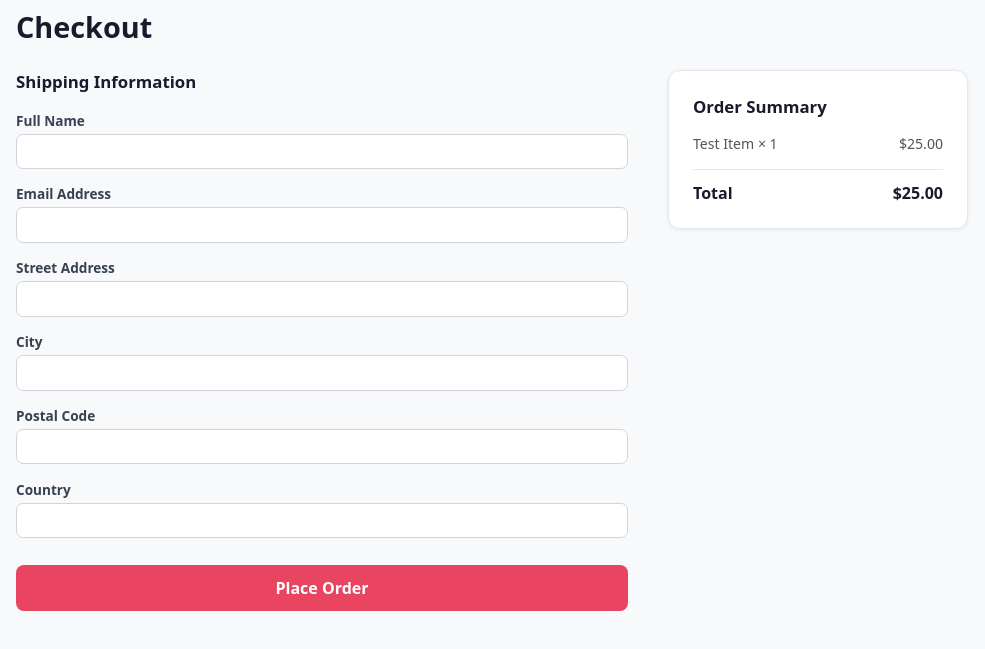
Test case: Checkout › shows postal code format validation error
Step 1. Type "Jane Doe" into the field with id "fullName" → (322, 151), box [16,134,628,169]
Step 2. Type "jane@example.com" into the field labelled "Email Address" → (322, 225), box [16,207,628,243]
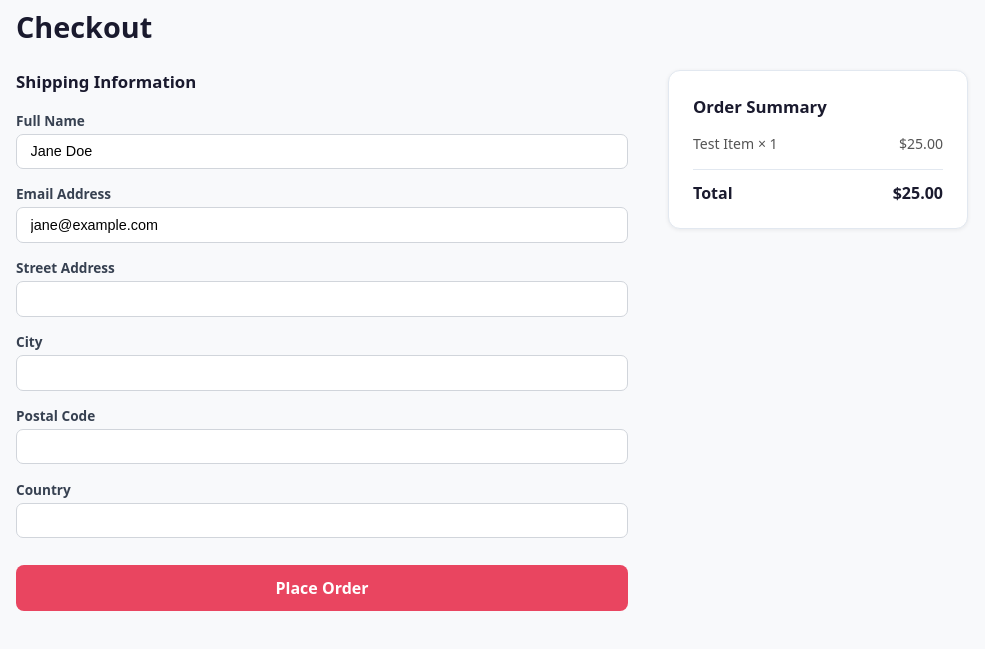
Step 3. Type "123 Main St" into the field labelled "Street Address" → (322, 299), box [16,281,628,317]
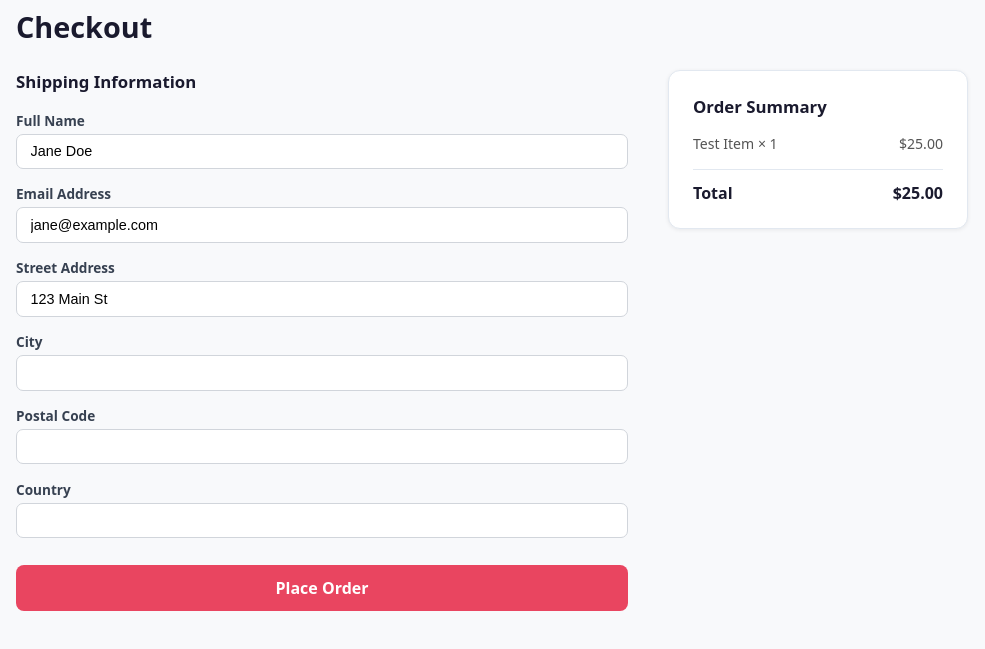
Step 4. Type "Springfield" into the field labelled "City" → (322, 373), box [16,355,628,390]
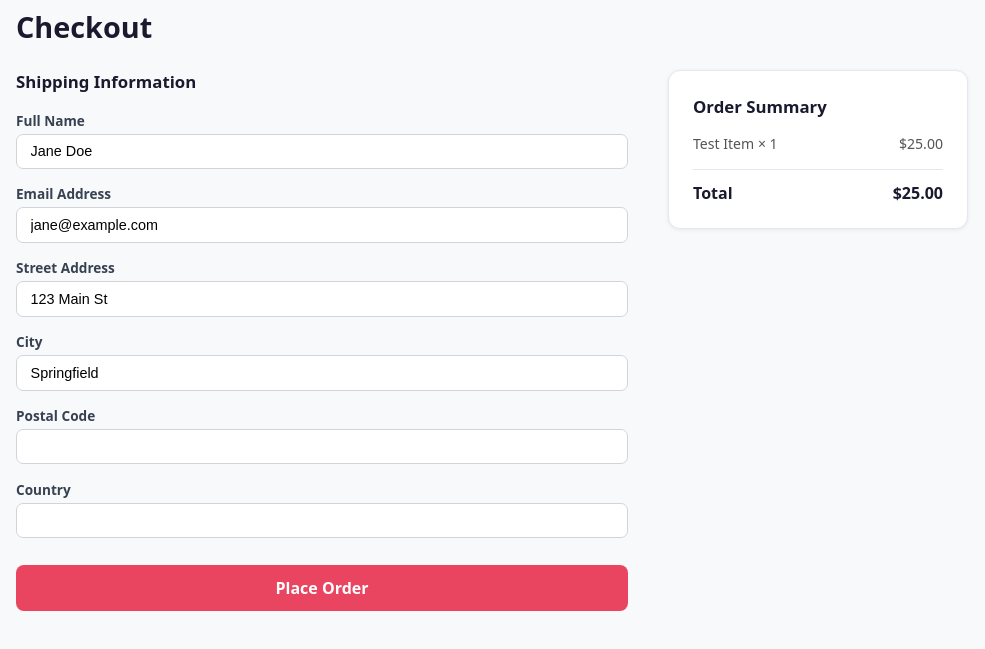
Step 5. Type "abc" into the field labelled "Postal Code" → (322, 446), box [16,429,628,464]
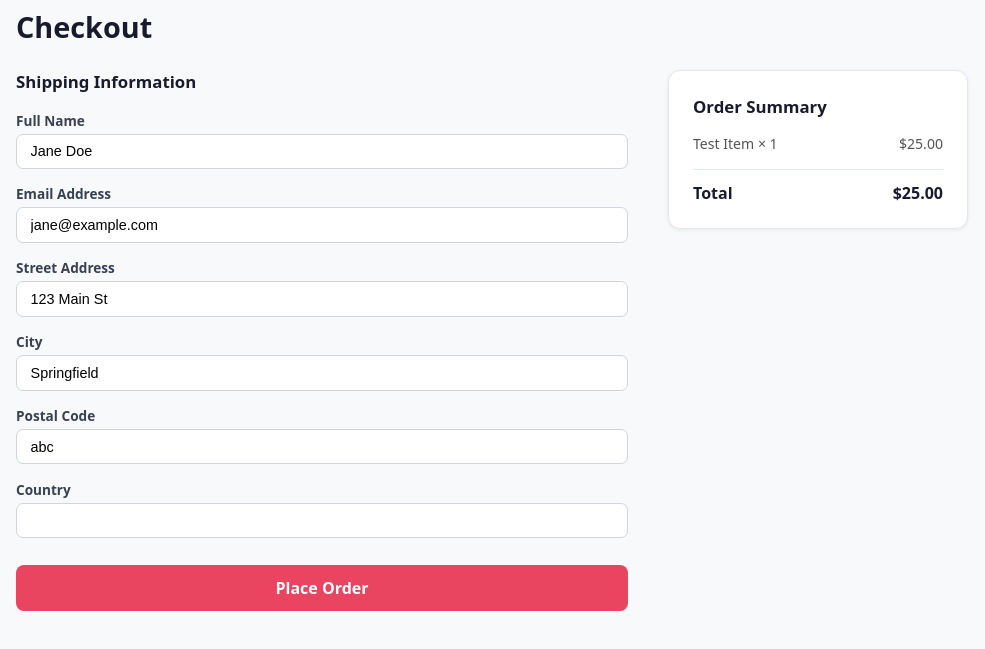
Step 6. Type "USA" into the field labelled "Country" → (322, 520), box [16,502,628,538]
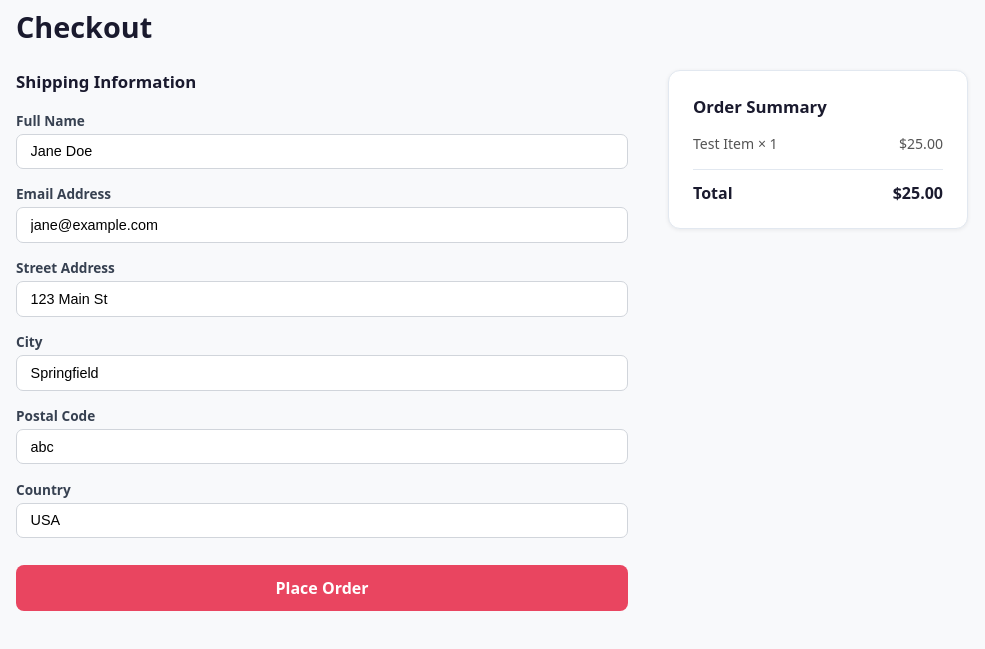
Step 7. Click the button "Place Order" → (322, 588), box [16,565,628,611]
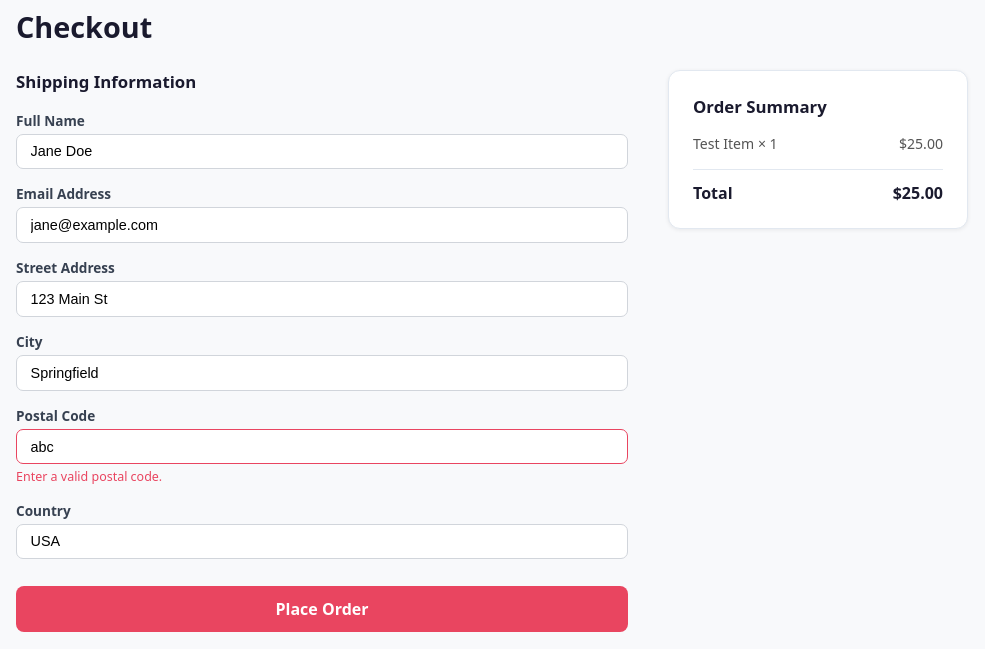
Expected: the text "Enter a valid postal code." is shown, [16,468,162,485]
